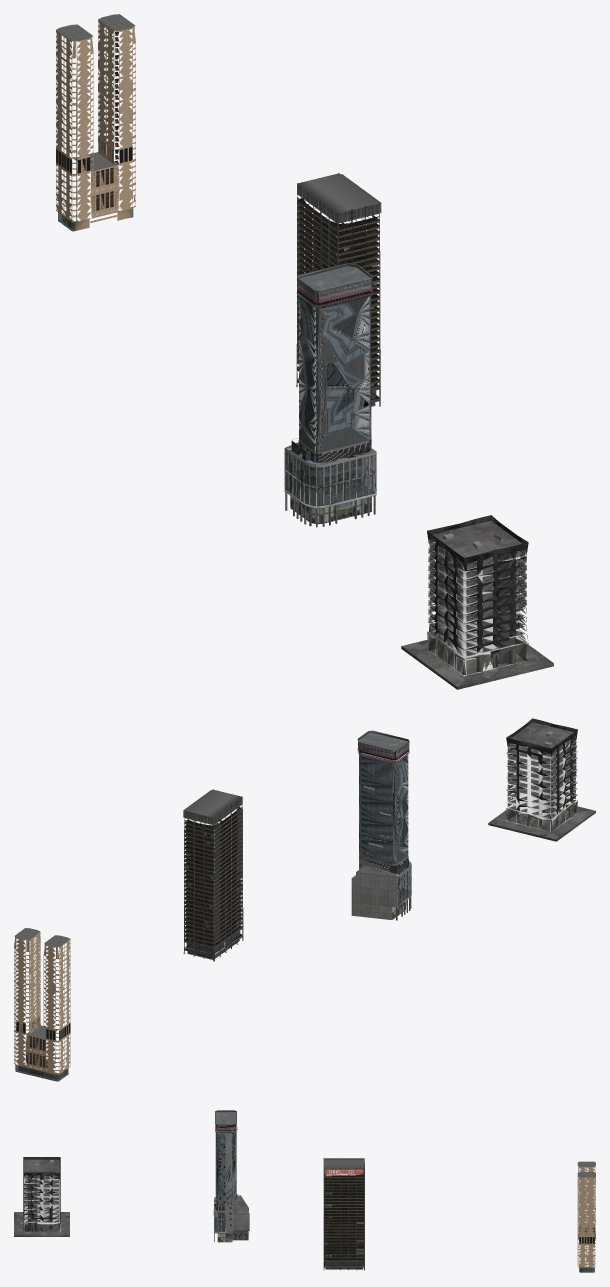
Rendered from office-landmarks.glb.
3 renders of one model, top to bottom at view 1: azimuth 30°, elevation 25°; view 2: azimuth 150°, elevation 25°; view 3: azimuth 270°, elevation 25°, orthographic. The views are drawn at different scales.
Parts seen in each view (by area): view 1: Singapore Office, Modern Office, Twin High-Rise Offices, Atlanta Office; view 2: Singapore Office, Atlanta Office, Modern Office, Twin High-Rise Offices; view 3: Atlanta Office, Modern Office, Singapore Office, Twin High-Rise Offices.
Boxes of the visible parts, <box> form: Singapore Office: <box>284,263,376,527</box>; Modern Office: <box>401,515,553,689</box>; Twin High-Rise Offices: <box>56,14,135,231</box>; Atlanta Office: <box>296,173,381,406</box>; Singapore Office: <box>351,730,411,920</box>; Atlanta Office: <box>183,789,243,961</box>; Modern Office: <box>488,718,595,841</box>; Twin High-Rise Offices: <box>14,928,70,1081</box>; Atlanta Office: <box>323,1158,364,1270</box>; Modern Office: <box>14,1157,69,1236</box>; Singapore Office: <box>213,1110,249,1242</box>; Twin High-Rise Offices: <box>577,1161,595,1272</box>.
Bounding box in the file's own units: 39.97 × 37 × 166.
Materials: 34 (32 with a texture image).
